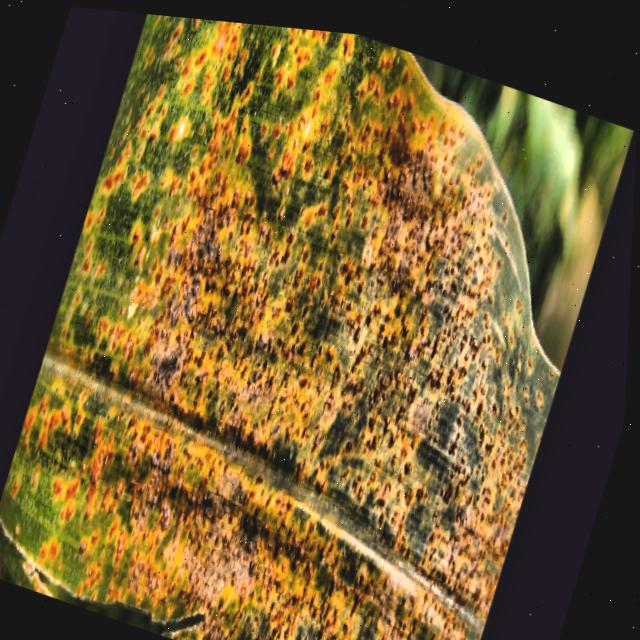common_rust: (0, 1, 629, 640)
